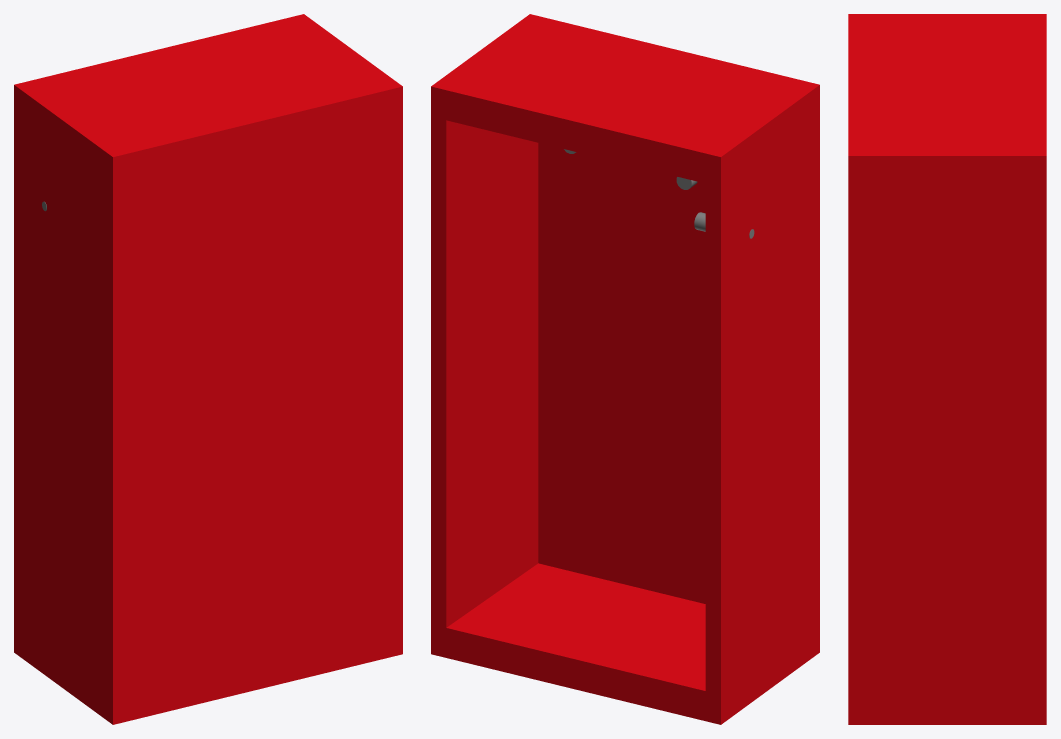
Rendered from lemari alat besar.fbx.
3 views of the same model, side by side, from view 1: azimuth 30°, elevation 25°; view 2: azimuth 150°, elevation 25°; view 3: azimuth 270°, elevation 25° (orthographic).
Parts seen in each view (by area): view 1: Cube.035; view 2: Cube.035; view 3: Cube.035.
Part boxes in pixels (x1,y1,x2,y2): Cube.035: (14, 14, 402, 724); Cube.035: (431, 14, 819, 724); Cube.035: (848, 14, 1046, 724).
Bounding box in the file's own units: 779 × 1455 × 460.
